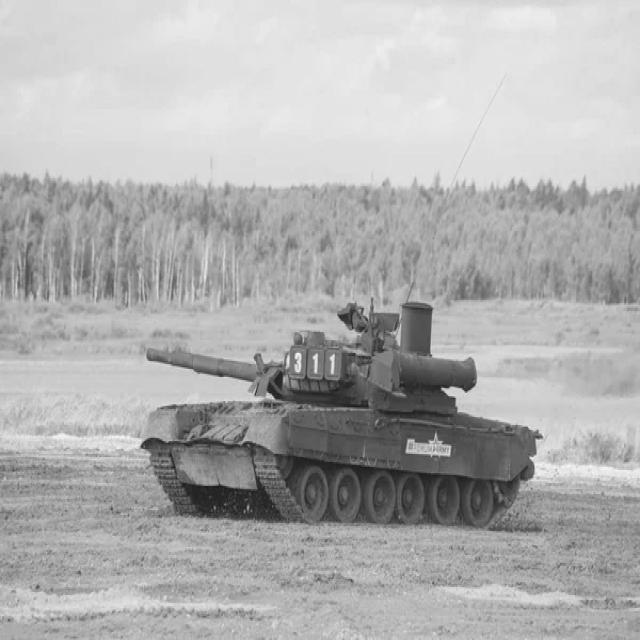Tank: (140, 279, 548, 538)
